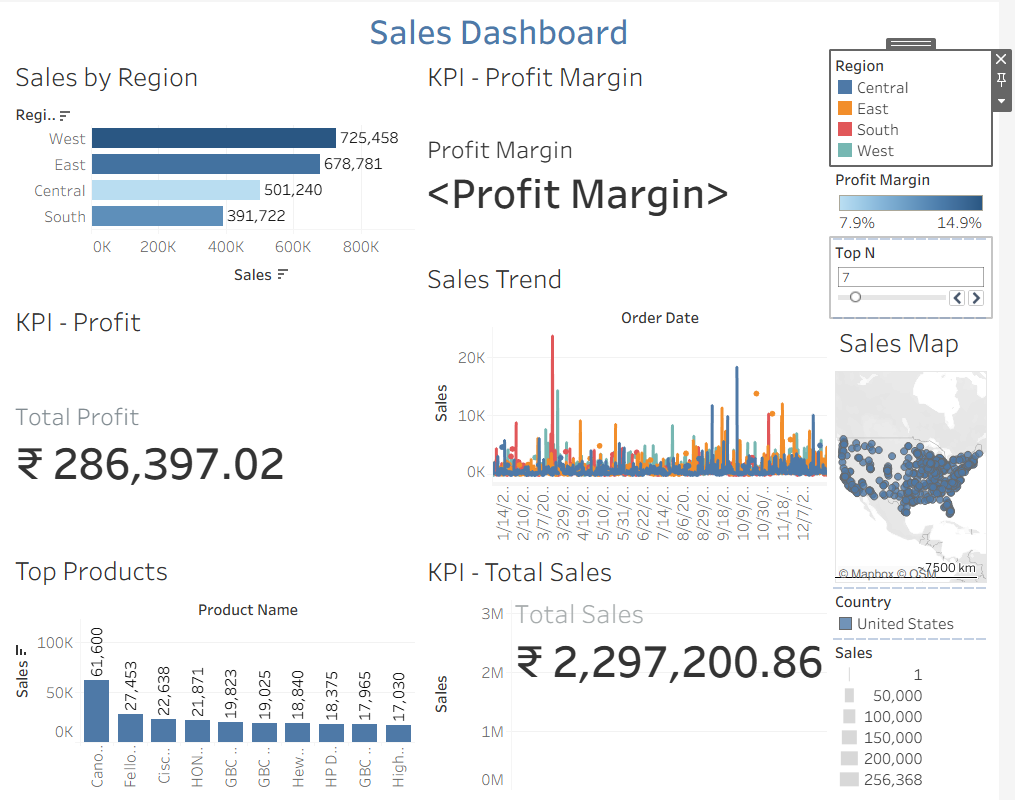

The dashboard page shown, as its layout file describes it:
{"tool":"tableau","page":{"name":"Sales Dashboard","canvas":[1000,800],"ordinal":0},"visuals":[{"type":"text","box":[8,8,984,41]},{"type":"worksheet","title":"Sales by Region","mark":"Automatic","rows":["Region"],"cols":["Sales"],"box":[8,49,412,244.5]},{"type":"worksheet","title":"KPI - Profit Margin","mark":"Text","box":[420,49,412,201.9]},{"type":"legend","title":"Sales Trend","param":"[federated.0hfl0u90ss9gqn13fswyp039zd58].[none:Region:nk]","box":[832,49,160,114]},{"type":"legend","title":"Sales by Region","param":"[federated.0hfl0u90ss9gqn13fswyp039zd58].[usr:Calculation_1579637626481623042:qk","box":[832,163,160,73]},{"type":"parameter","param":"[Parameters].[Parameter 1]","box":[832,236,160,79]},{"type":"worksheet","title":"Sales Trend","mark":"Line","rows":["Sales"],"cols":["Order Date"],"box":[420,250.9,412,293.5]},{"type":"worksheet","title":"KPI - Profit","mark":"Text","box":[8,293.5,412,249.2]},{"type":"worksheet","title":"Sales Map","mark":"Multipolygon","box":[832,315,160,270]},{"type":"worksheet","title":"Top Products","mark":"Automatic","rows":["Sales"],"cols":["Product Name"],"box":[8,542.8,412,249.2]},{"type":"worksheet","title":"KPI - Total Sales","mark":"Text","rows":["Sales"],"box":[420,544.3,412,247.7]},{"type":"legend","title":"Sales Map","param":"[federated.0hfl0u90ss9gqn13fswyp039zd58].[none:Country:nk]","box":[832,585,160,51]},{"type":"legend","title":"Sales Map","param":"[federated.0hfl0u90ss9gqn13fswyp039zd58].[sum:Sales:qk]","box":[832,636,160,156]}]}

Visuals, with their boxes in screenshot pixels (x1, y1, x2, y2), scaled from the page's 1000x800 canvas onto the 1015x800 screenshot:
text: <region>8, 8, 1007, 49</region>
"Sales by Region" worksheet: <region>8, 49, 426, 294</region>
"KPI - Profit Margin" worksheet (Text marks): <region>426, 49, 844, 251</region>
"Sales Trend" legend: <region>844, 49, 1007, 163</region>
"Sales by Region" legend: <region>844, 163, 1007, 236</region>
parameter: <region>844, 236, 1007, 315</region>
"Sales Trend" worksheet (Line marks): <region>426, 251, 844, 544</region>
"KPI - Profit" worksheet (Text marks): <region>8, 294, 426, 543</region>
"Sales Map" worksheet (Multipolygon marks): <region>844, 315, 1007, 585</region>
"Top Products" worksheet: <region>8, 543, 426, 792</region>
"KPI - Total Sales" worksheet (Text marks): <region>426, 544, 844, 792</region>
"Sales Map" legend: <region>844, 585, 1007, 636</region>
"Sales Map" legend: <region>844, 636, 1007, 792</region>
